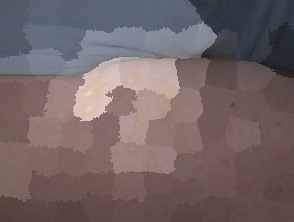SJS-TEN: (0, 47, 294, 214)
